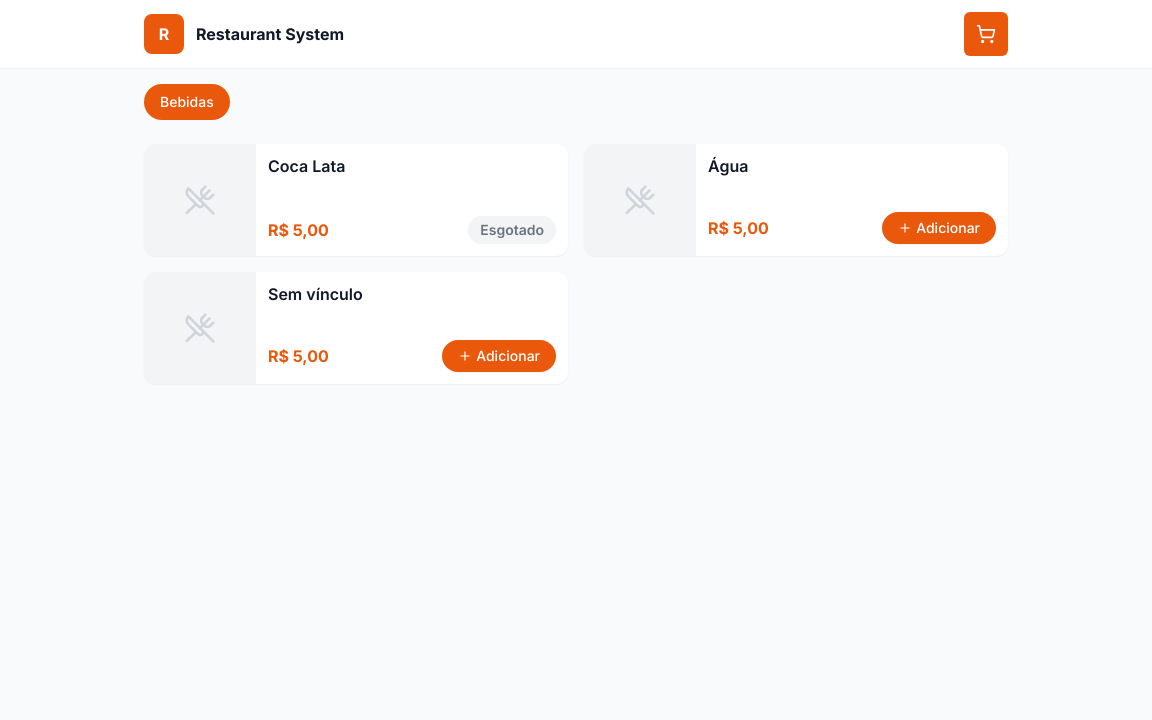
Test: public checkout with the cash register closed › recognizes the closed register by code, not by the English text
Click the button "Adicionar" below "Água" at (939, 228), box [882,212,996,244]
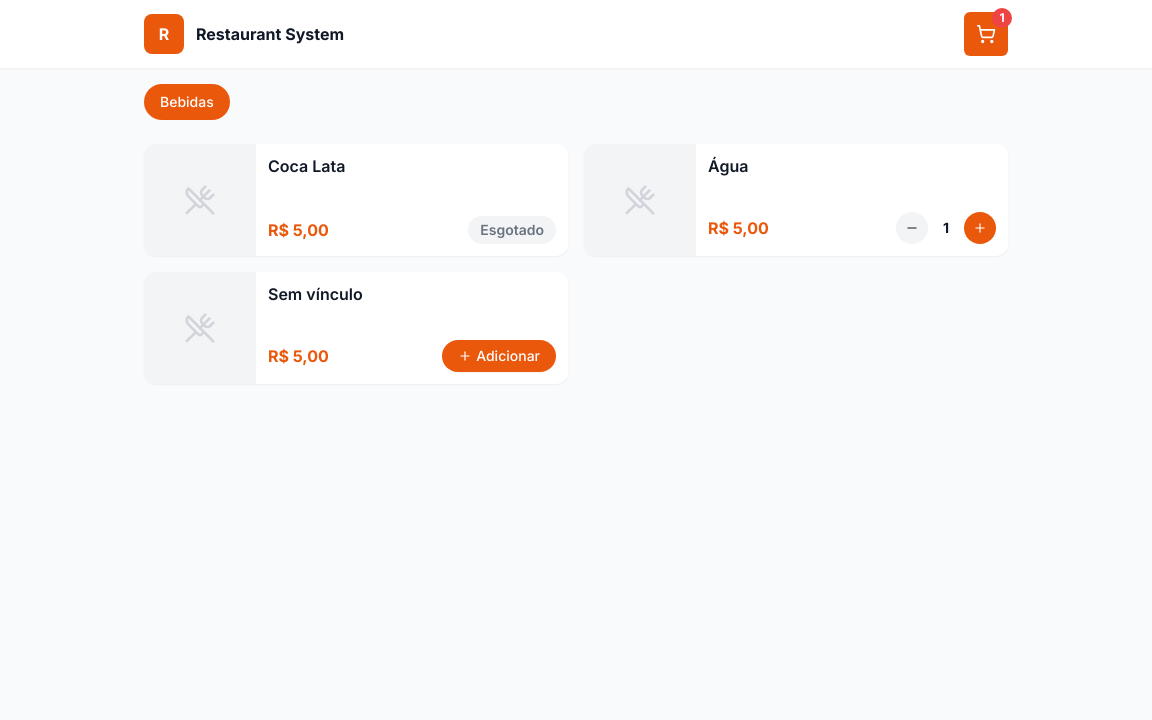
Click the button named "Abrir carrinho" at (986, 34), box [964,12,1008,56]
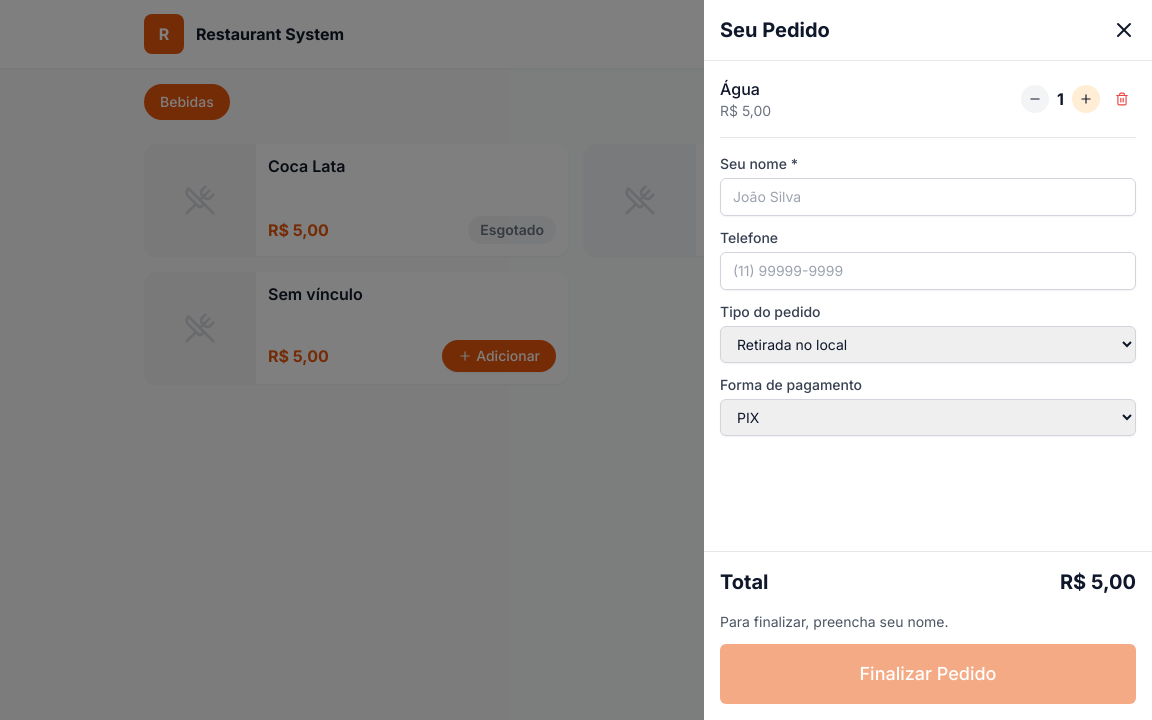
Type "Cliente" into the field labelled "Seu nome" at (928, 197), box [720,178,1136,216]
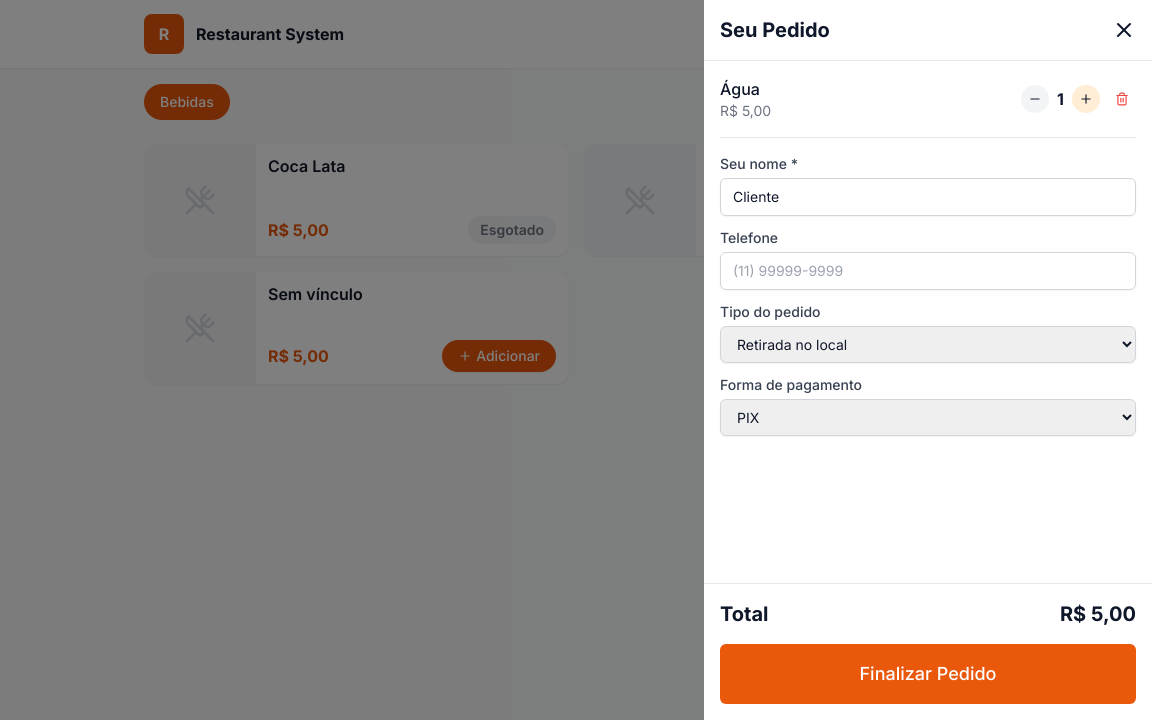
Click the button "Finalizar Pedido" at (928, 674), box [720,644,1136,704]
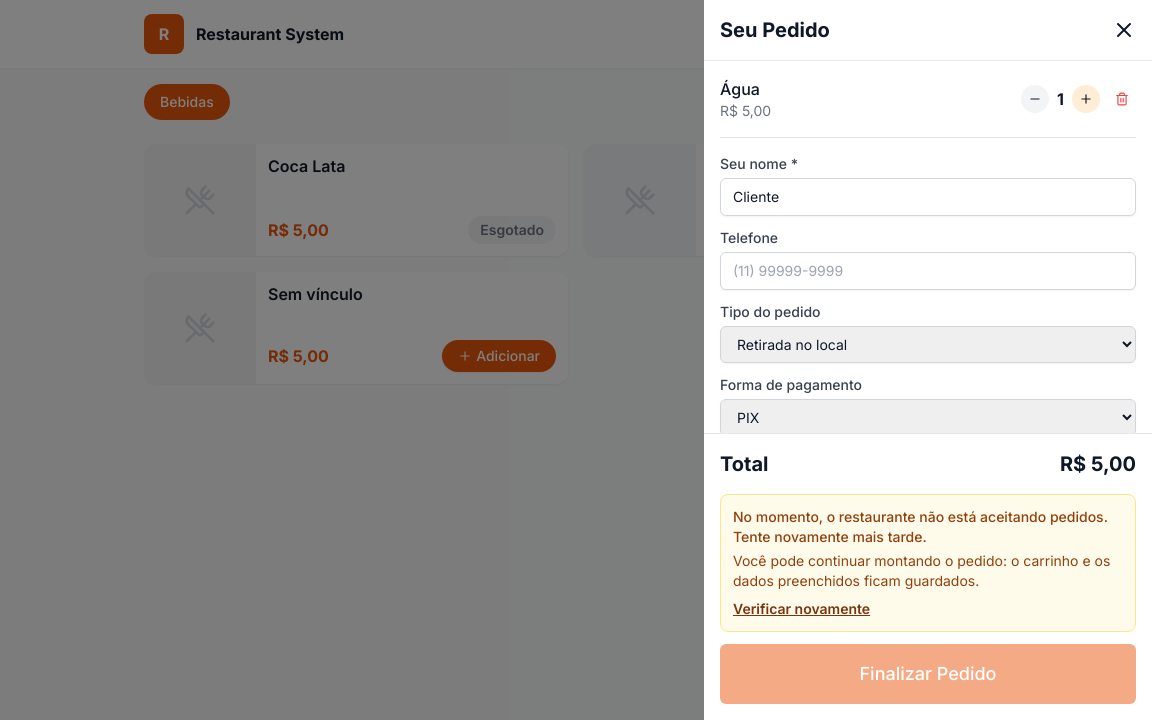
expect the text "No momento, o restaurante não está aceitando pedidos. Tente novamente mais tarde." is shown: met, box [733,508,1108,545]
